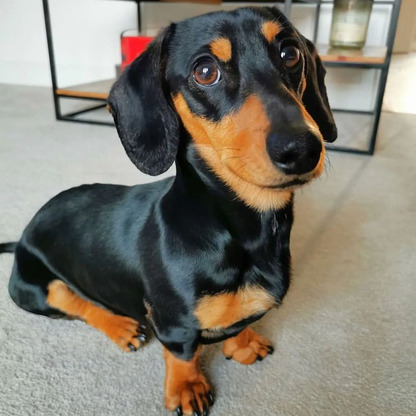dachshund: (28, 23, 356, 386)
